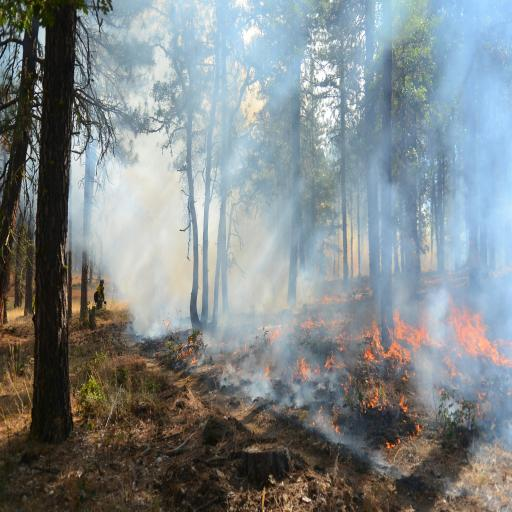wildfire: (65, 31, 512, 512)
